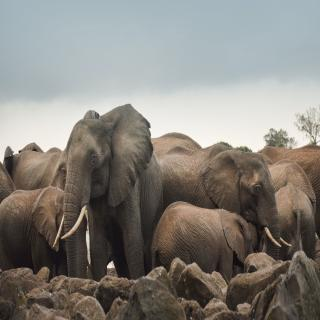Elephant: (60, 105, 165, 275), (150, 145, 293, 257)
